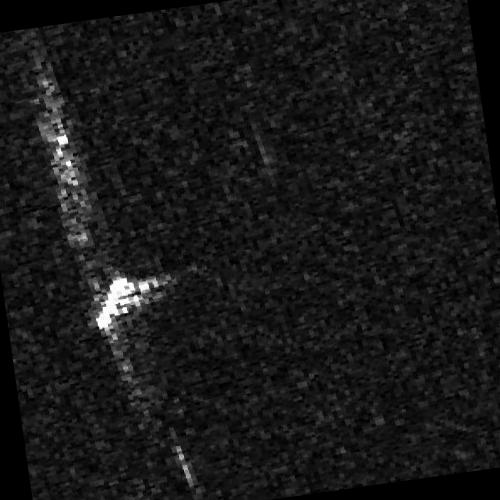ship: (96, 276, 135, 331)
